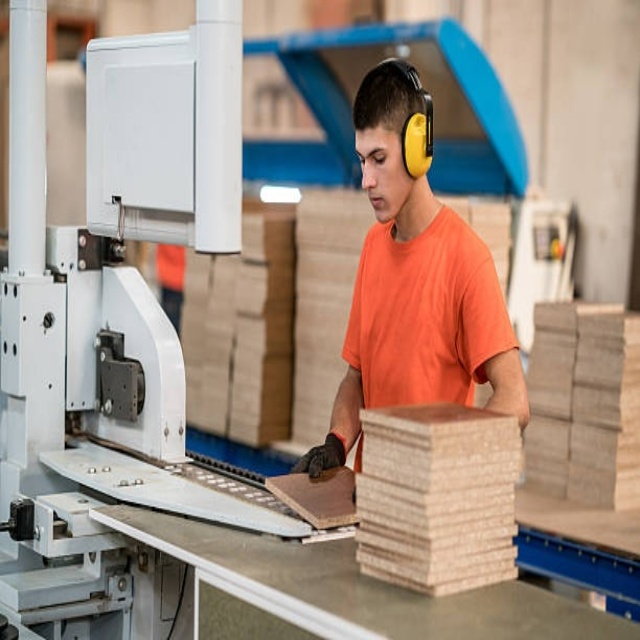Guantes: (290, 432, 347, 478)
Sin_gafas: (351, 143, 392, 176)
Sin_mascara: (367, 185, 392, 224)
